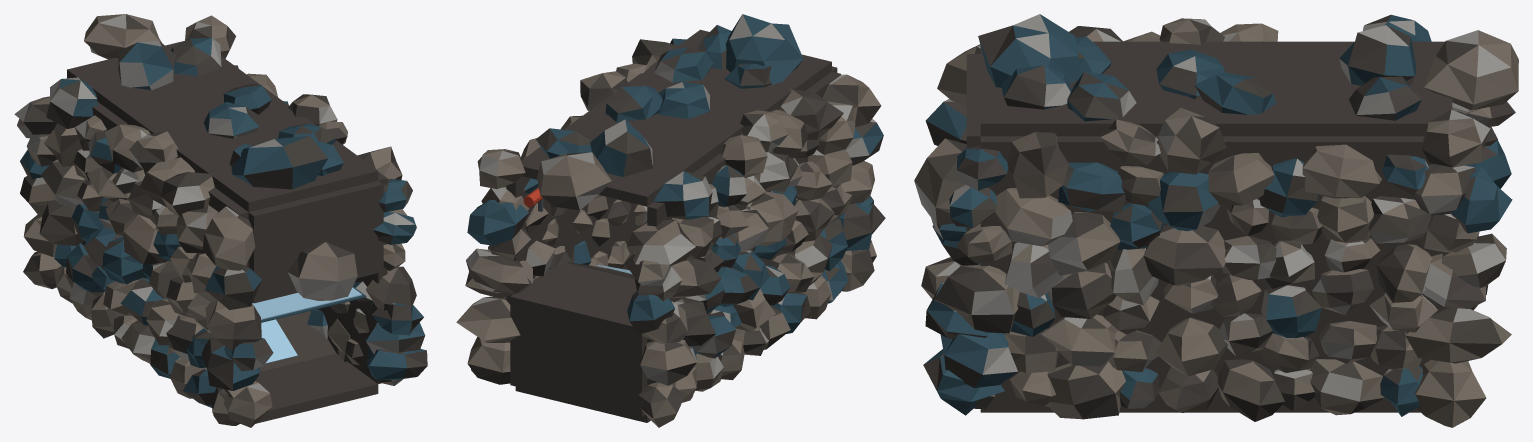
The model's file is Cave_Flooded_Drop.fbx.
3 views of the same model, side by side, from view 1: azimuth 30°, elevation 25°; view 2: azimuth 150°, elevation 25°; view 3: azimuth 270°, elevation 25° (orthographic). The views are drawn at different scales.
Parts seen in each view (by area): view 1: Decor, Ceiling1, Wall4, Floor2, DecorGlass, Slope, Wall1, Wall2; view 2: Decor, Ceiling1, Wall3, Floor1, Wall1, Wall2; view 3: Decor, Ceiling1, Wall1, Wall4, Floor2.
Boxes of the visible parts, <box> form: Decor: <box>14,14,427,427</box>; Ceiling1: <box>67,40,378,211</box>; Wall4: <box>248,180,383,303</box>; Floor2: <box>255,353,378,423</box>; DecorGlass: <box>252,287,361,363</box>; Slope: <box>259,311,336,371</box>; Wall1: <box>311,172,387,383</box>; Wall2: <box>81,101,248,278</box>; Decor: <box>456,14,885,427</box>; Ceiling1: <box>521,29,831,206</box>; Wall3: <box>510,293,647,417</box>; Floor1: <box>515,263,650,422</box>; Wall1: <box>506,176,647,304</box>; Wall2: <box>647,71,841,385</box>; Decor: <box>914,14,1518,427</box>; Ceiling1: <box>980,41,1452,136</box>; Wall1: <box>980,136,1445,405</box>; Wall4: <box>966,54,980,231</box>; Floor2: <box>980,406,1329,412</box>.
Size of the model in its own units: 24.2 by 27 by 43.6.
